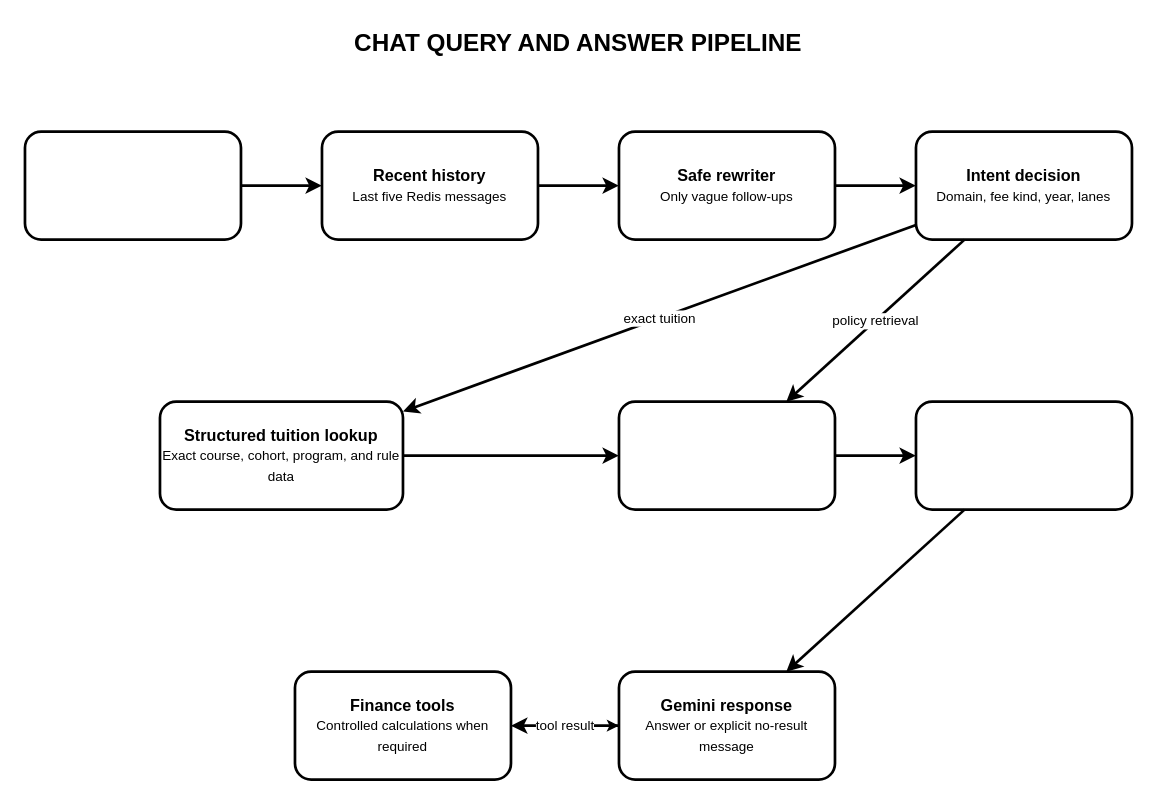
Image size: 1156x803. Some labels were removed from this diagram. Each missing label, with the box of its shape:
Authenticated query Original user wording: (23, 130, 242, 240)
Grounded prompt Labeled context plus answer instruction: (914, 400, 1133, 510)
Vector retrieval Qdrant top 15 -> parents -> BGE top 6: (617, 400, 836, 510)
